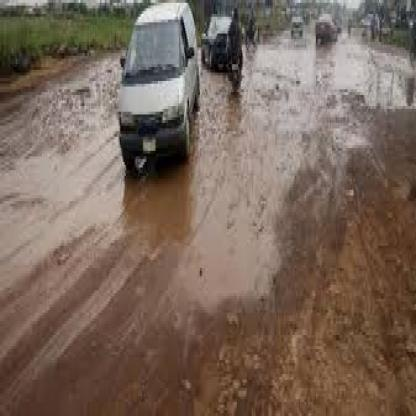car: (107, 3, 198, 169)
